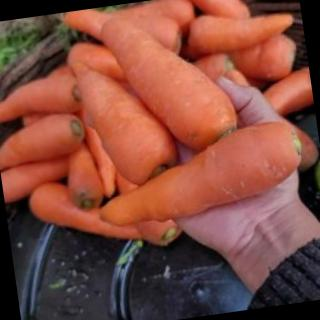Wortel: (89, 117, 310, 232), (99, 1, 244, 160), (67, 45, 185, 197)
